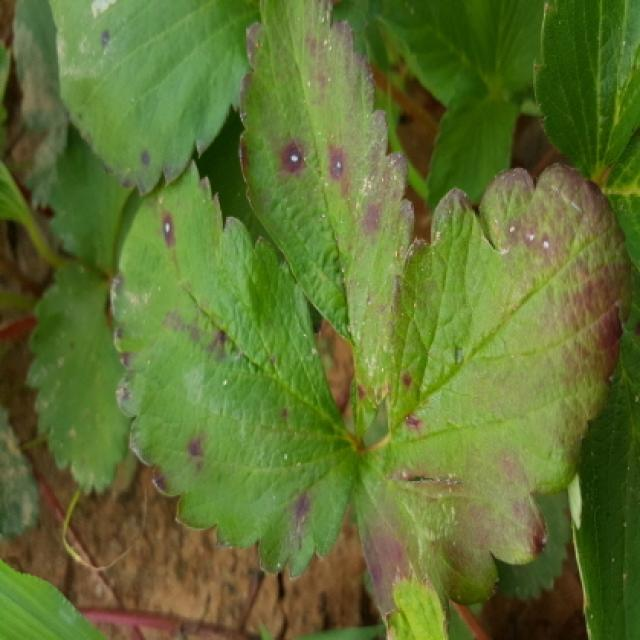Leaf Spot: (351, 161, 631, 628), (109, 158, 362, 579), (235, 0, 417, 442), (46, 0, 260, 198)
